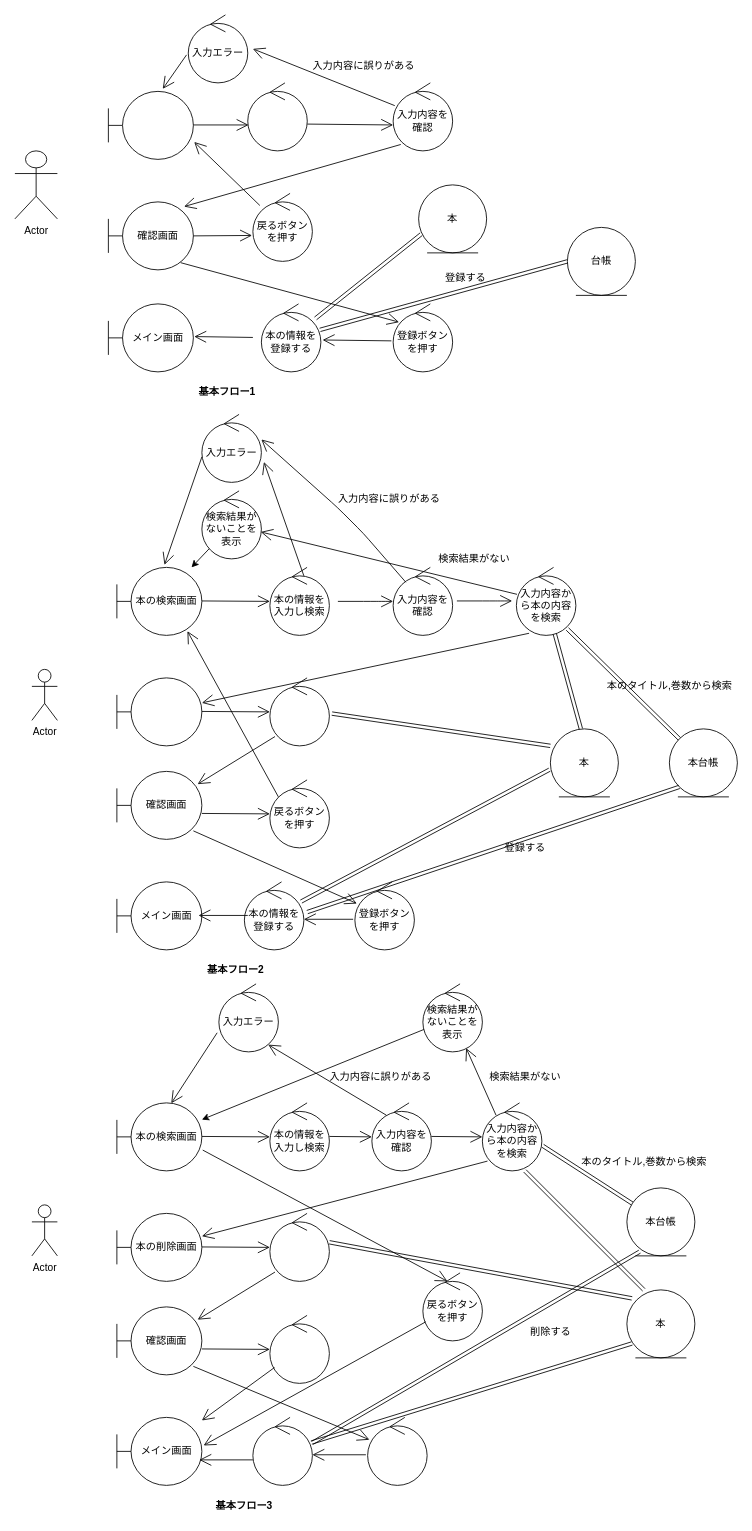
This 752x1531 diagram has some shape labels left out. The centre of each missing label's shape, as x and y in pixels:
"削除する本の情報を確認" belongs at (299,1247).
"削除をやめるボタンを押す" belongs at (299,1349).
"削除ボタンを押す" belongs at (397,1451).
"更新する本の情報を入力" belongs at (299,711).
"本の情報を入力" belongs at (277,116).
"本の情報を削除する" belongs at (282,1451).
"本の更新画面" belongs at (159,711).
"本の登録画面" belongs at (150,125).
